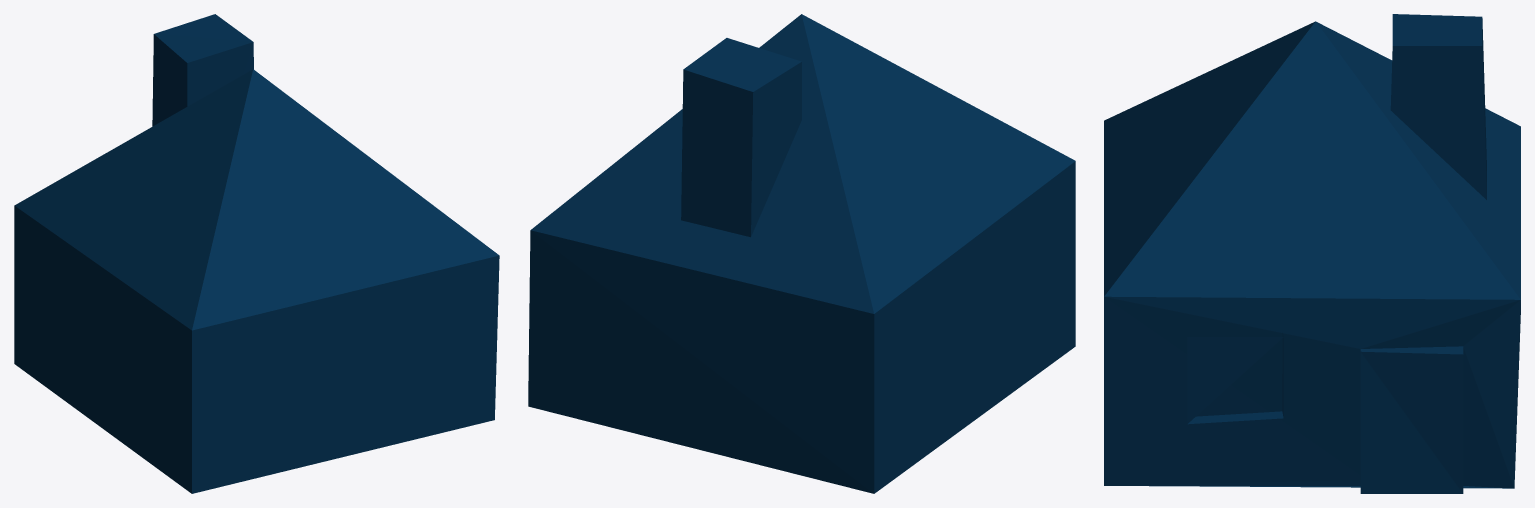
The model's file is house1.glb.
3 views of the same model, side by side, from view 1: azimuth 30°, elevation 25°; view 2: azimuth 150°, elevation 25°; view 3: azimuth 270°, elevation 25° (orthographic). The views are drawn at different scales.
Parts seen in each view (by area): view 1: housing (1); view 2: housing (1); view 3: housing (1).
Part boxes in pixels (bbox=[...]): housing (1): bbox=[14, 14, 499, 493]; housing (1): bbox=[528, 14, 1075, 493]; housing (1): bbox=[1104, 14, 1520, 493].
Size of the model in its own units: 1.05 by 1.02 by 1.02.
